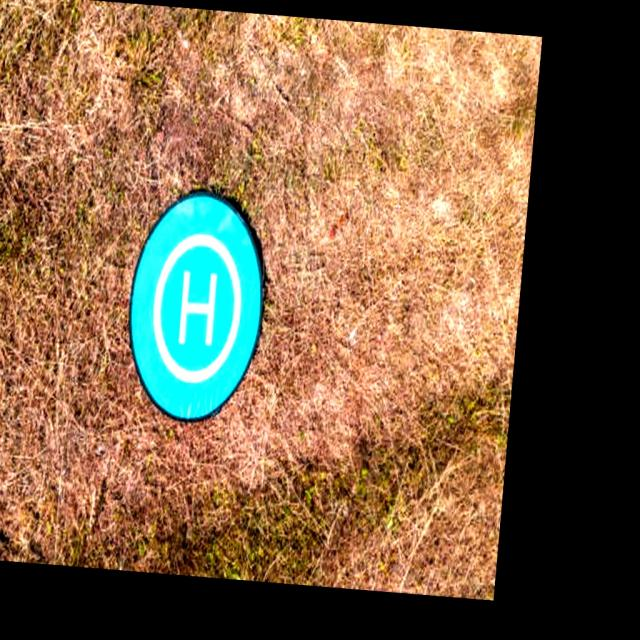helipad: (148, 228, 245, 386)
